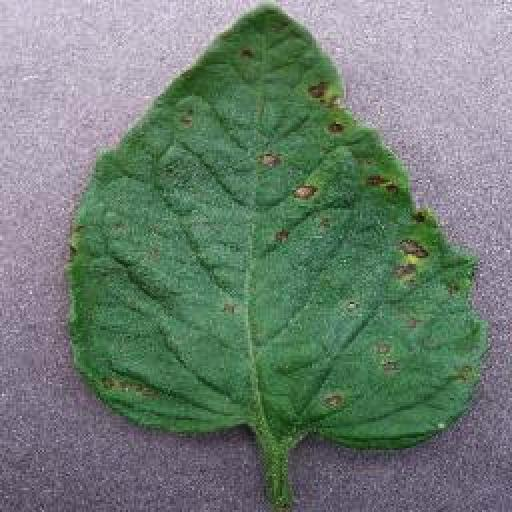disease_tomato: (71, 6, 488, 452)
